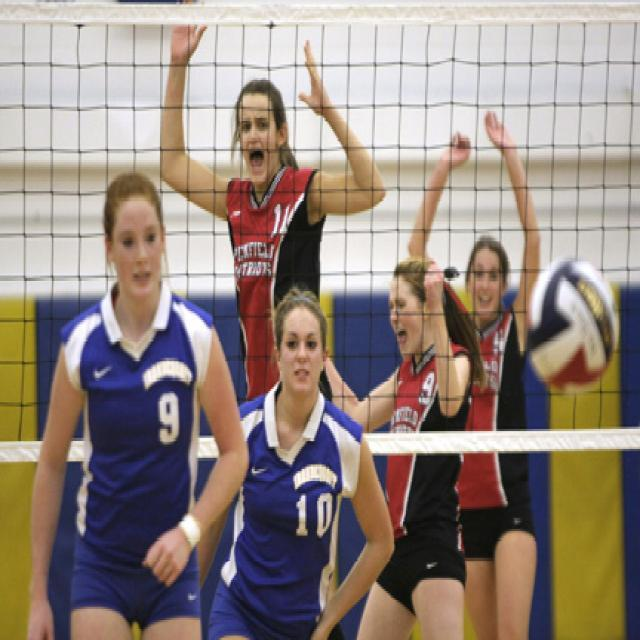volleyball: (522, 259, 619, 388)
